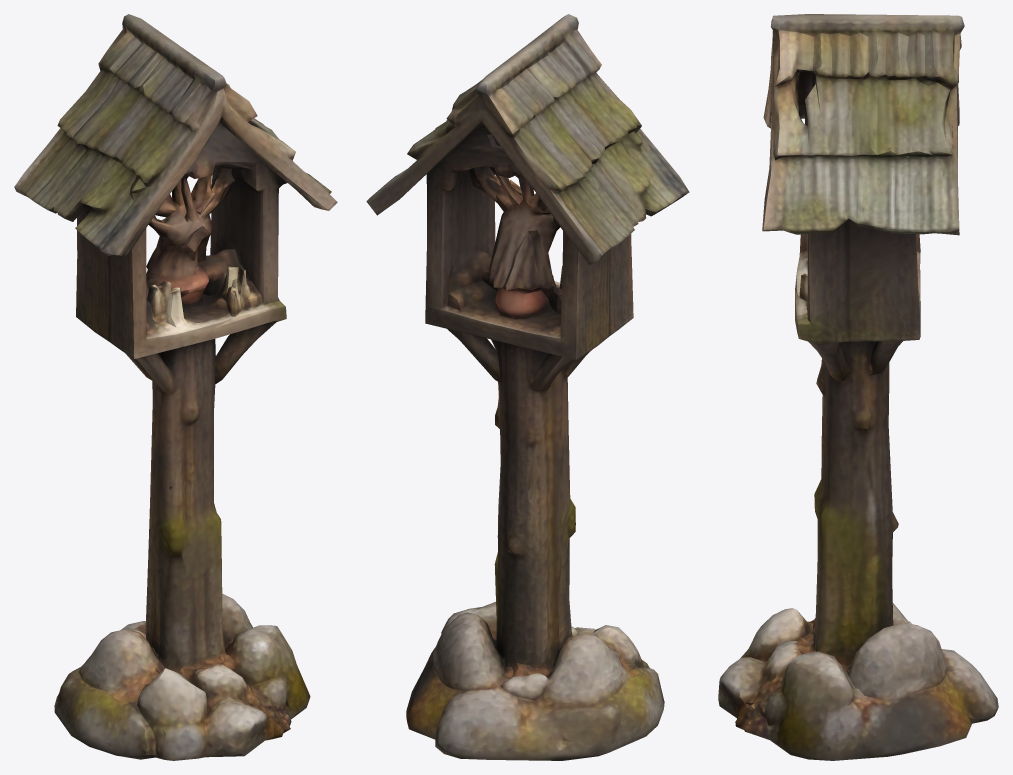
Rendered from prop-wayside-shrine.glb.
The picture shows the model from 3 angles, left to right: view 1: azimuth 30°, elevation 25°; view 2: azimuth 150°, elevation 25°; view 3: azimuth 270°, elevation 25°; orthographic projection. The views are drawn at different scales.
Visible parts, largest first — view 1: prop-wayside-shrine; view 2: prop-wayside-shrine; view 3: prop-wayside-shrine.
Boxes of the visible parts, bbox=[...] form: prop-wayside-shrine: bbox=[14, 14, 337, 760]; prop-wayside-shrine: bbox=[366, 14, 689, 760]; prop-wayside-shrine: bbox=[718, 14, 998, 760].
Size of the model in its own units: 0.9398 by 2.5 by 0.9215.
Materials: 1 (1 with a texture image).
